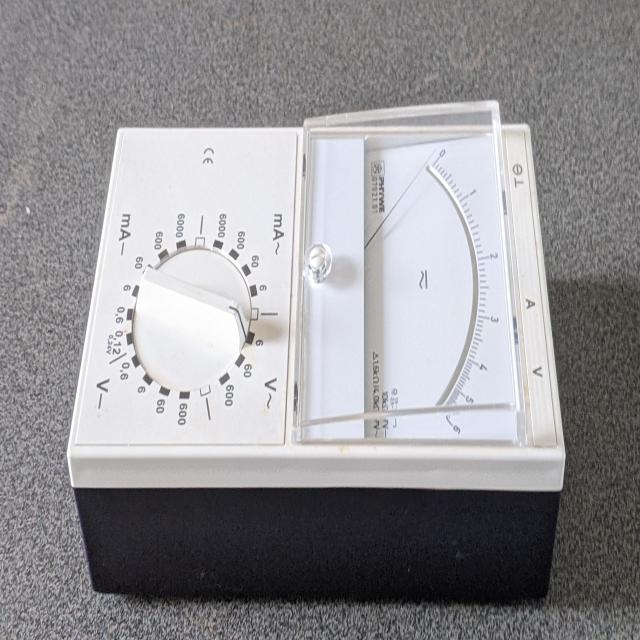Analog Multimeter: (59, 92, 579, 617)
